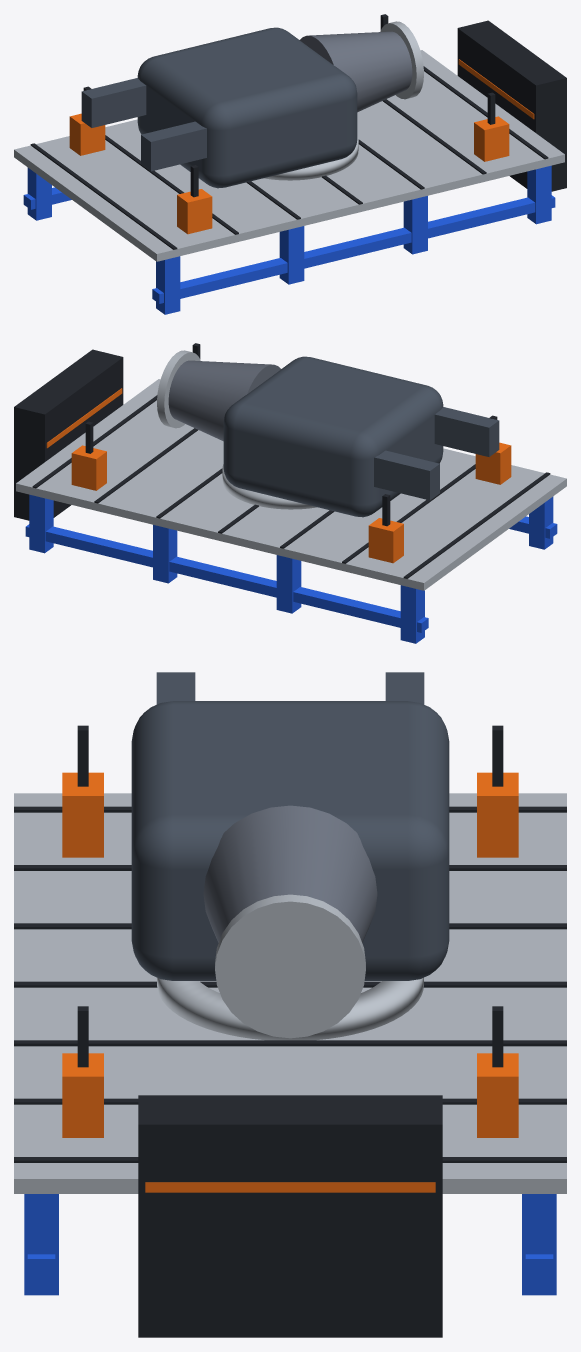
The picture shows the model from 3 angles, top to bottom: view 1: azimuth 30°, elevation 25°; view 2: azimuth 150°, elevation 25°; view 3: azimuth 270°, elevation 25°; orthographic projection. The views are drawn at different scales.
Bounding box in the file's own units: 7.16 × 2.66 × 4.
